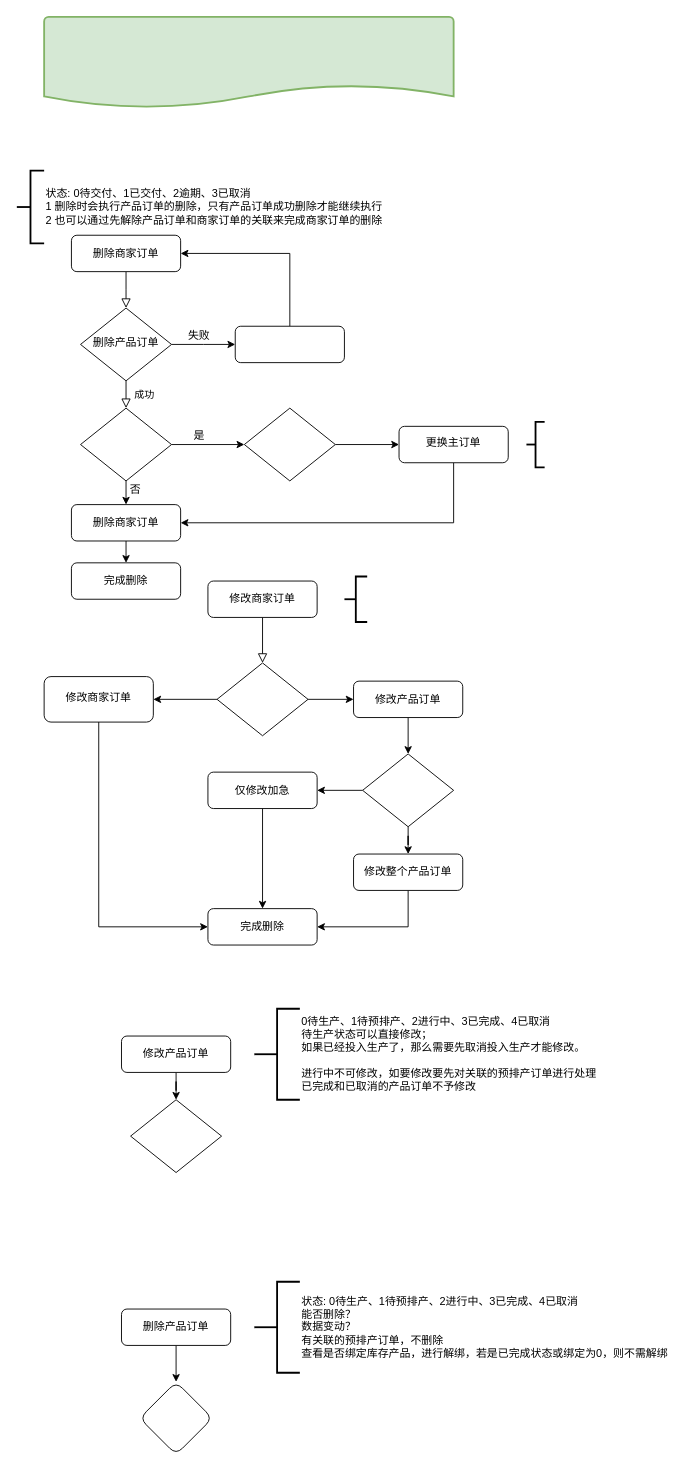
This 683x1471 diagram has some shape labels left out. The shapes that lost their labels are listed below. From the top down, each one's centre as x and y in pixels, then its label:
At point 248,61: "商家订单： 产品订单、产品库存 产品订单：预排产订单 预排产订单：日排产订单、 预排产库存锁定、物料采购订单、 材料-库存信息".
At point 289,344: "处理产品订单".
At point 126,444: "是否为主订单？".
At point 289,444: "是否有子订单？".
At point 535,444: "随机更换".
At point 355,598: "状态: 0待交付、1已交付、2逾期、3已取消".
At point 262,699: "两部分处理".
At point 408,790: "产品订单是否已投入生产？".
